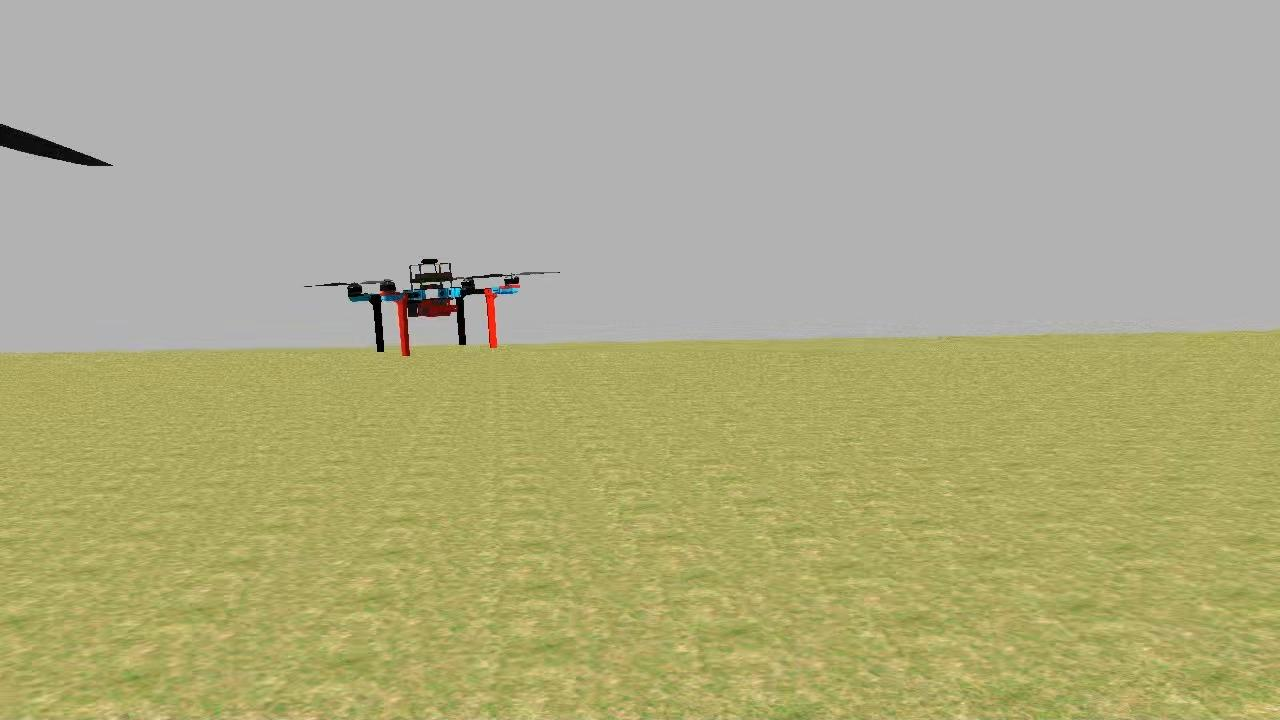UAV: (337, 252, 526, 364)
